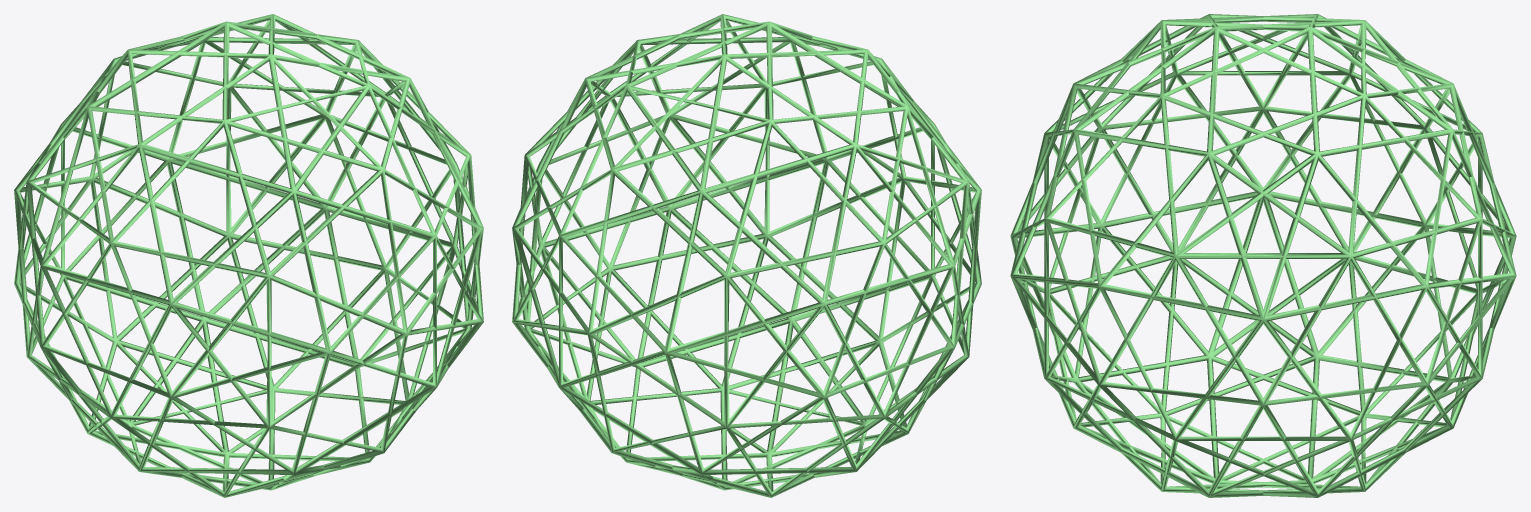
Rendered from SmallSnubIcosicosidodecahedron1.glb.
3 renders of one model, left to right at view 1: azimuth 30°, elevation 25°; view 2: azimuth 150°, elevation 25°; view 3: azimuth 270°, elevation 25°, orthographic. The views are drawn at different scales.
Parts seen in each view (by area): view 1: SmallSnubIcosicosidodecahedron; view 2: SmallSnubIcosicosidodecahedron; view 3: SmallSnubIcosicosidodecahedron.
Boxes of the visible parts, x1=… form: SmallSnubIcosicosidodecahedron: x1=14, y1=14, x2=483, y2=497; SmallSnubIcosicosidodecahedron: x1=512, y1=14, x2=981, y2=497; SmallSnubIcosicosidodecahedron: x1=1010, y1=14, x2=1516, y2=497.
Size of the model in its own units: 2.9 by 2.9 by 2.9.
